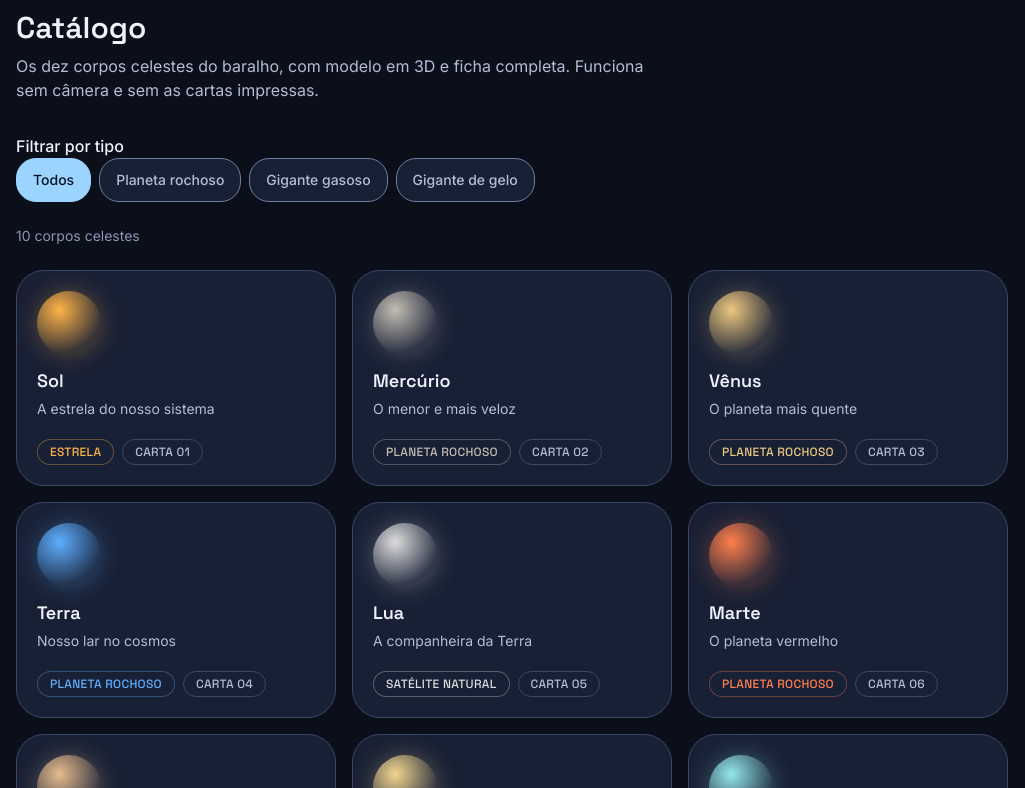
Test: CatalogPage › usa o singular quando só há um resultado
The image size is (1025, 788).
Click the radio button labelled "Planeta rochoso" at (170, 180), box [99,158,241,202]
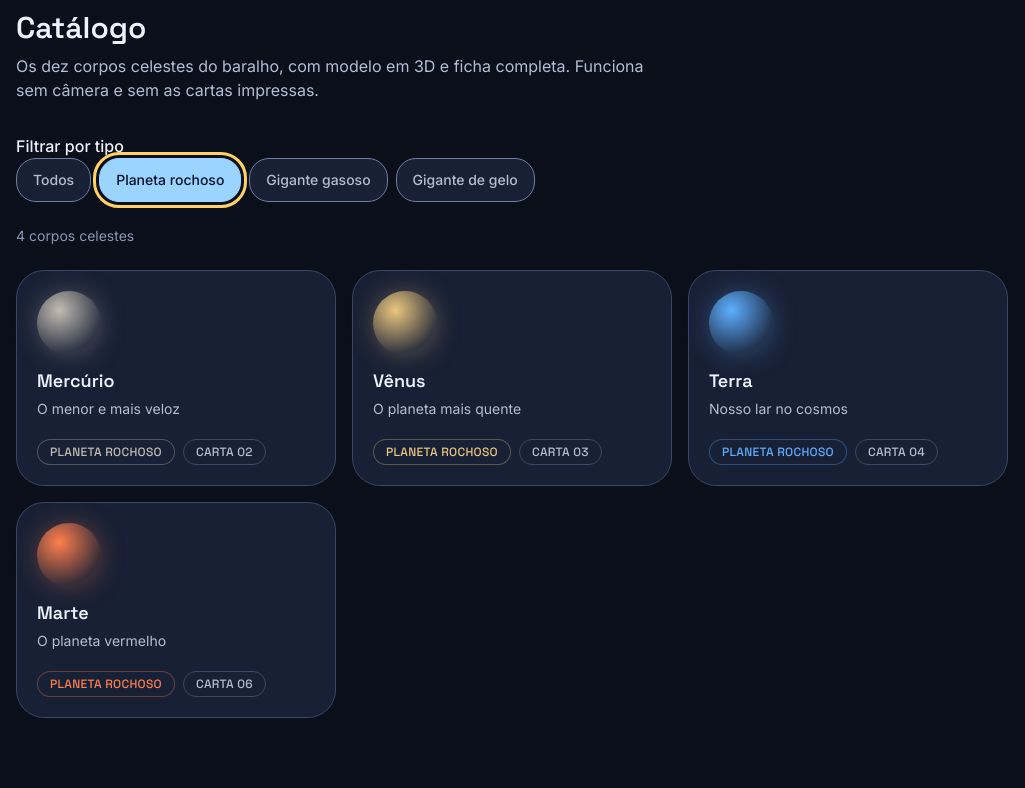
Now the text "4 corpos celestes" is shown, box [16,227,134,244]
